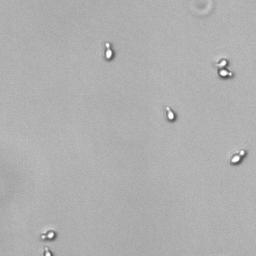budding: (229, 147, 248, 165), (102, 41, 115, 62), (163, 104, 177, 122), (39, 229, 57, 242), (216, 67, 234, 79), (212, 57, 229, 68), (40, 244, 55, 256)
